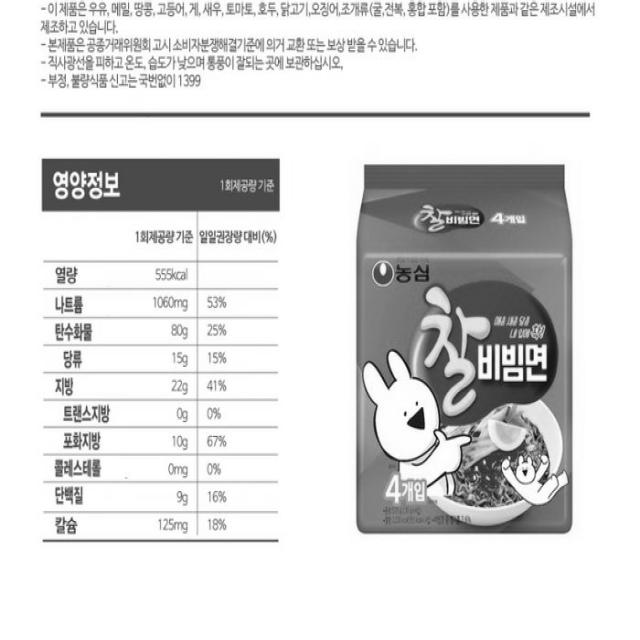Nutrition Label: (16, 138, 305, 564)
